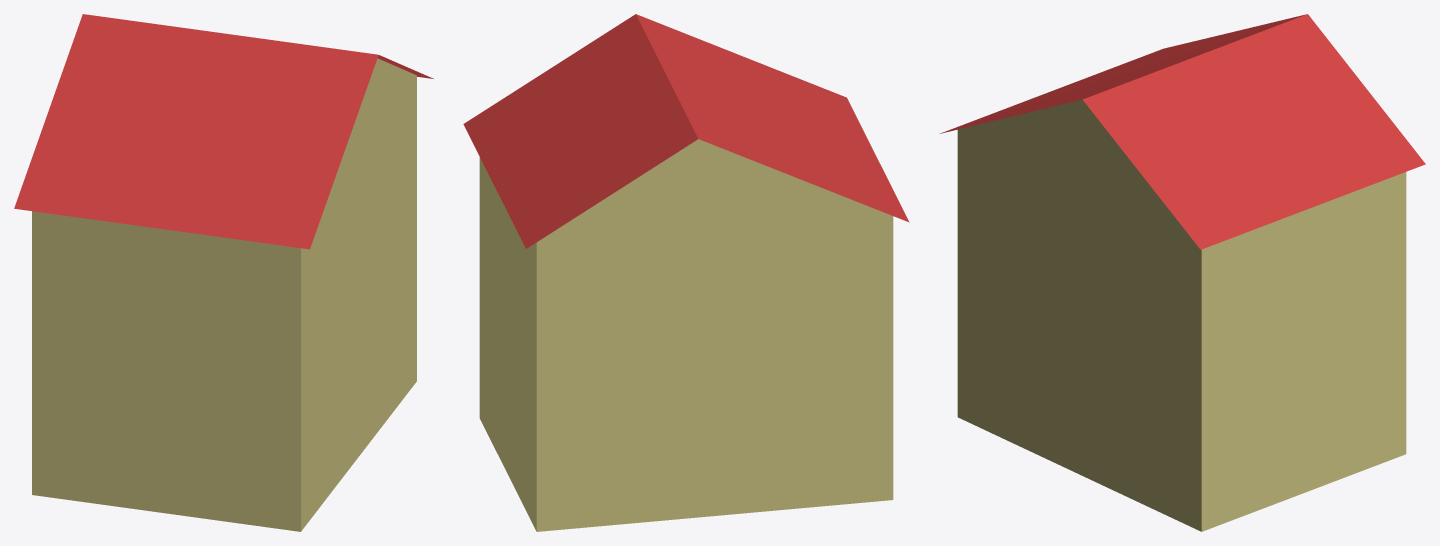
The picture shows the model from 3 angles, left to right: view 1: azimuth 30°, elevation 25°; view 2: azimuth 150°, elevation 25°; view 3: azimuth 270°, elevation 25°; orthographic projection. The views are drawn at different scales.
Bounding box in the file's own units: 8.97 × 8.85 × 7.7.
